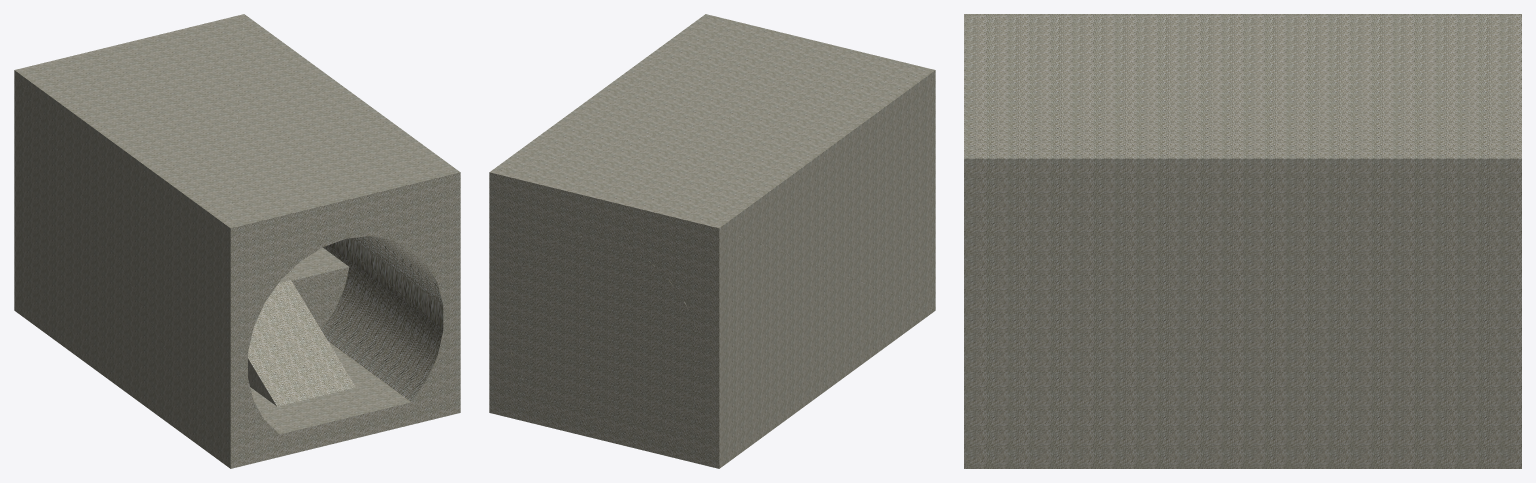
The model's file is ExcavThreeStepPreserveCore2.glb.
3 renders of one model, left to right at view 1: azimuth 30°, elevation 25°; view 2: azimuth 150°, elevation 25°; view 3: azimuth 270°, elevation 25°, orthographic. The views are drawn at different scales.
Bounding box in the file's own units: 16 × 16 × 26.08.
Materials: 1 (1 with a texture image).
